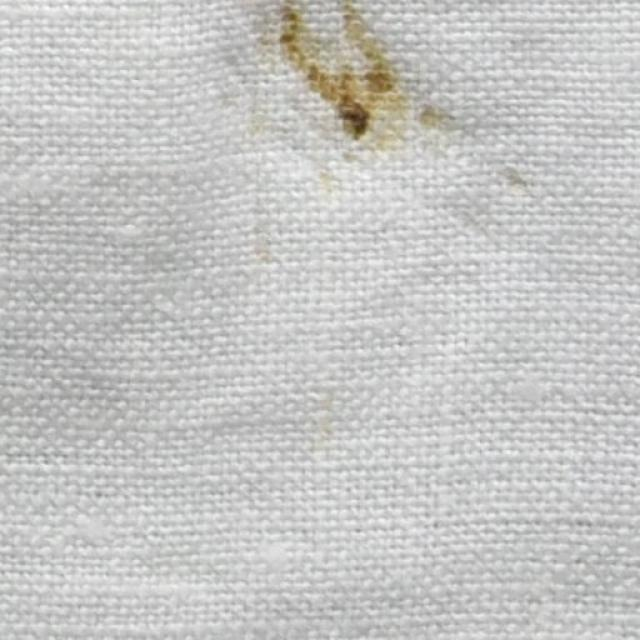Stain: (248, 0, 480, 161)
